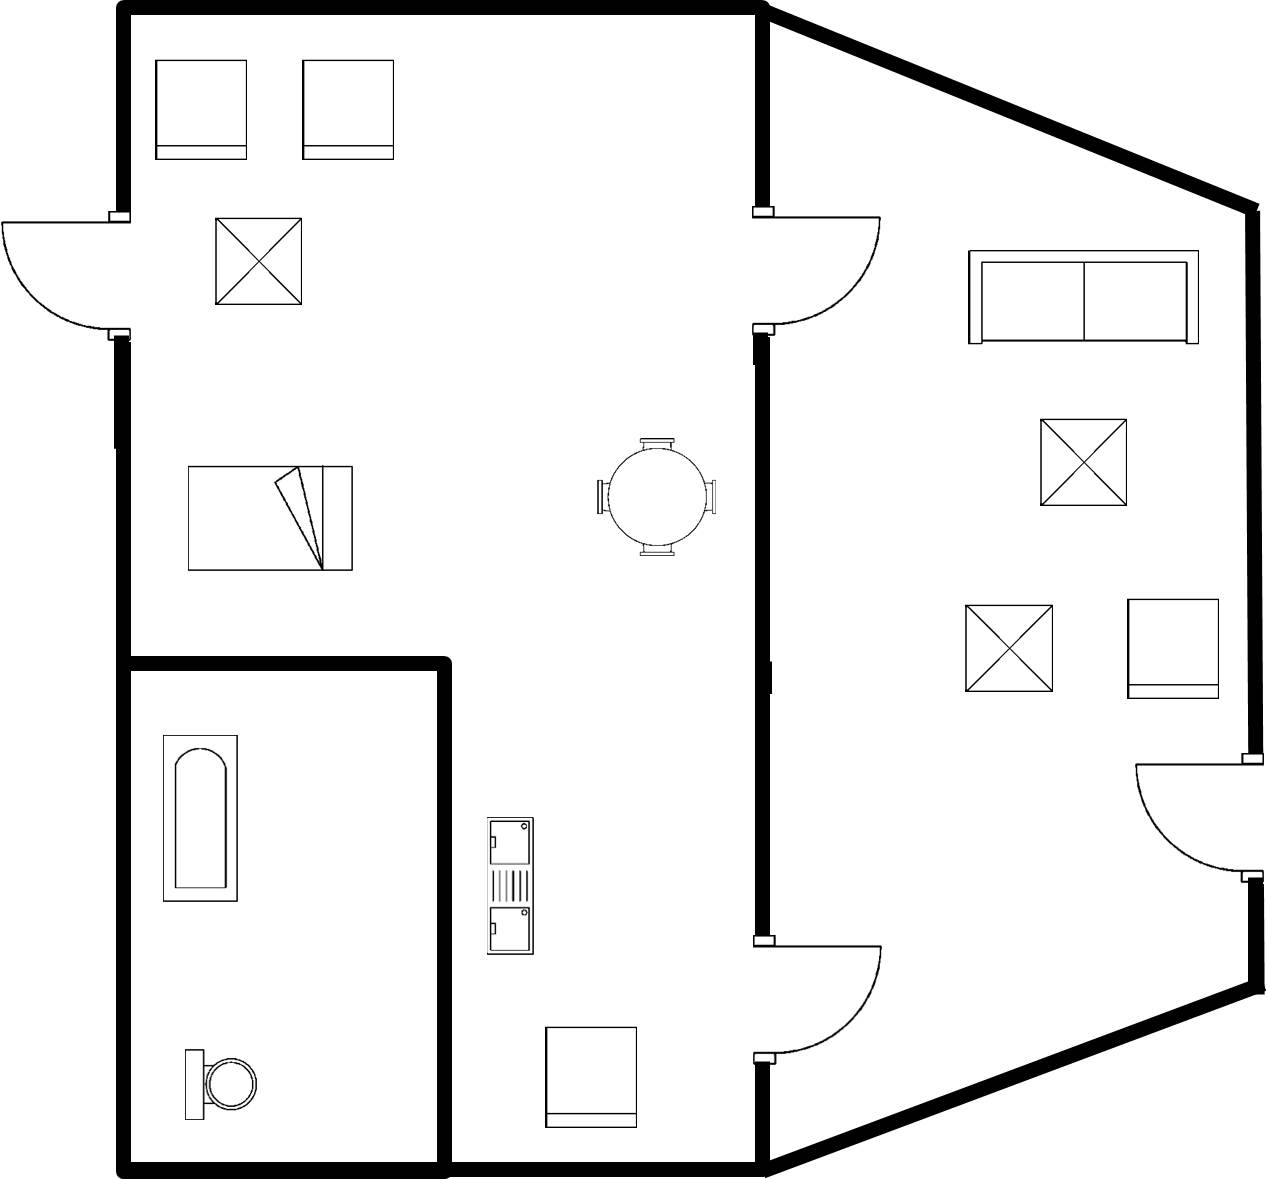bed: (178, 456, 366, 582)
coffee_table: (1028, 411, 1137, 520), (955, 594, 1062, 703), (207, 210, 312, 313)
large_sink: (170, 1041, 264, 1133)
large_sofa: (958, 242, 1211, 356)
round_table: (583, 428, 728, 566)
small_sofa: (292, 50, 403, 171), (1119, 589, 1229, 711), (535, 1019, 647, 1139), (146, 49, 257, 170)
tub: (153, 726, 249, 912)
twin_sink: (478, 807, 546, 965)
